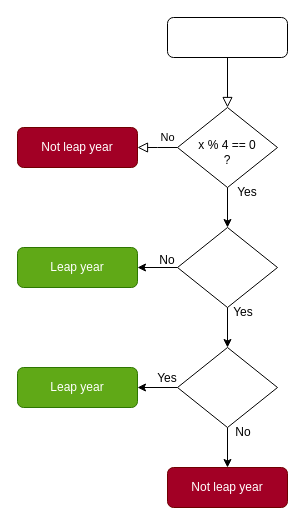
This 305x525 diagram has some shape labels left out. The centre of each missing label's shape, as x and y in pixels:
"x % 100 ==0" goes at pixel 227 267.
"x % 400 ==0" goes at pixel 227 387.
"x = int(input)" goes at pixel 227 37.
